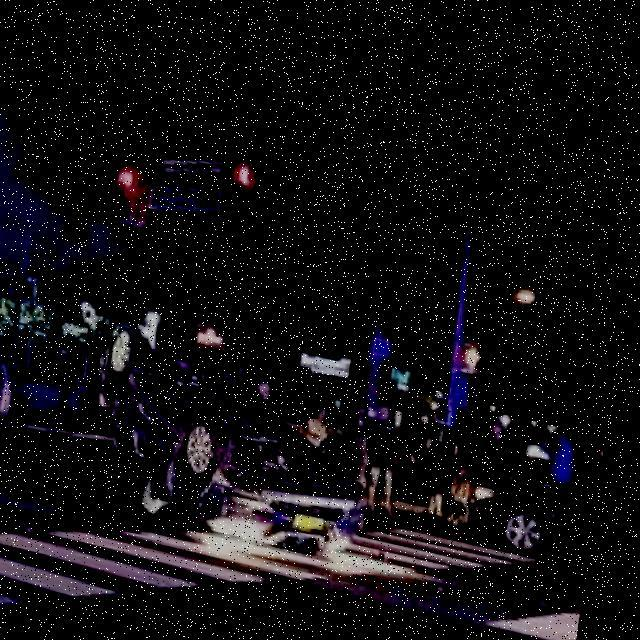Car Accident Detector - v4 Generation1 Exported: (78, 300, 400, 562)
